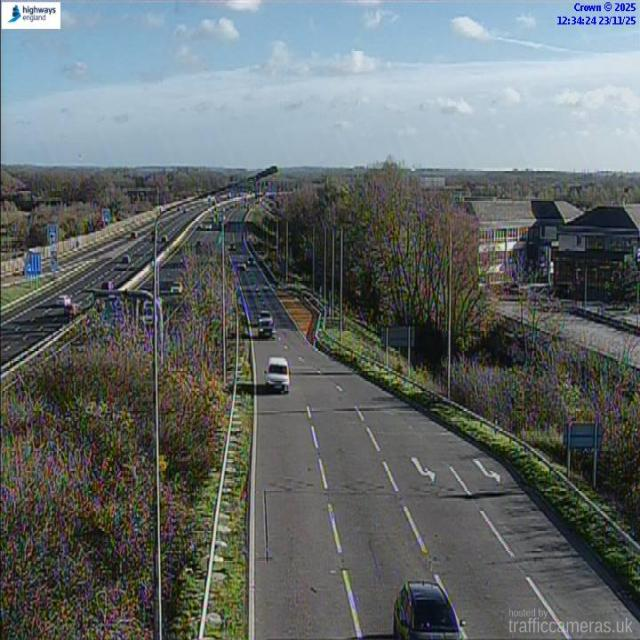foliage: (0, 312, 154, 639), (452, 342, 639, 533), (342, 163, 488, 352), (159, 251, 228, 639), (283, 178, 348, 269)
